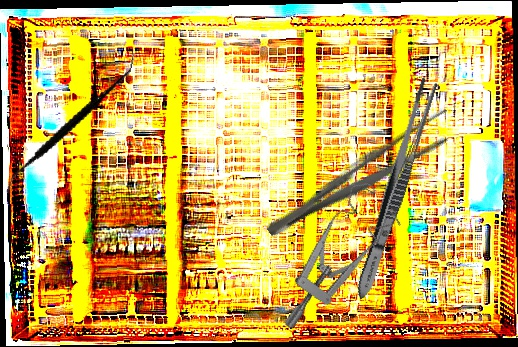Dressing Forceps: (260, 103, 461, 248), (350, 74, 441, 303)
Spatula Surgical: (5, 30, 136, 216)
Speculum: (240, 172, 422, 333)
